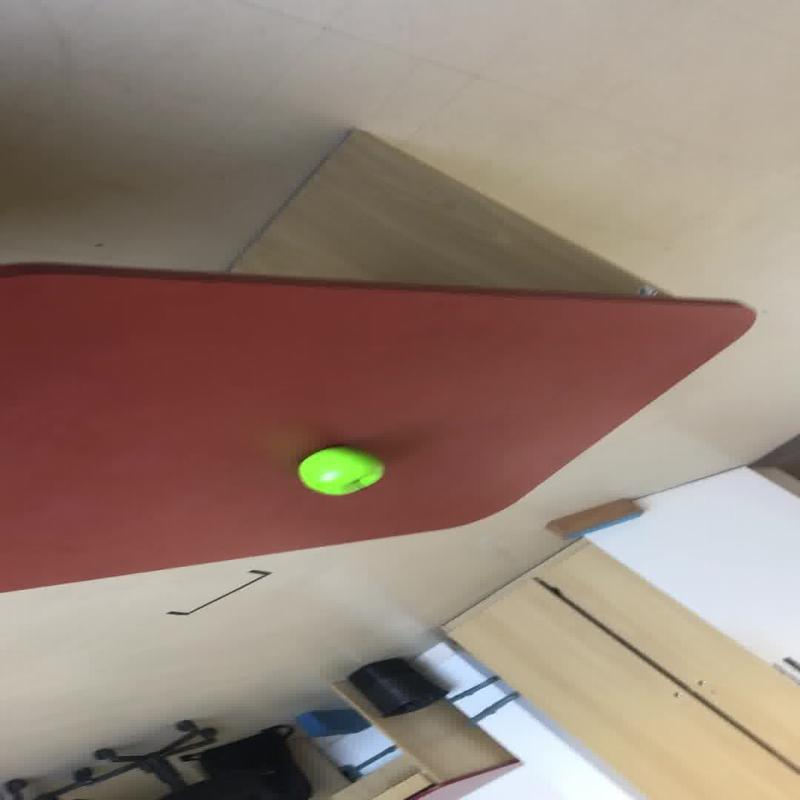apple: (295, 444, 385, 496)
